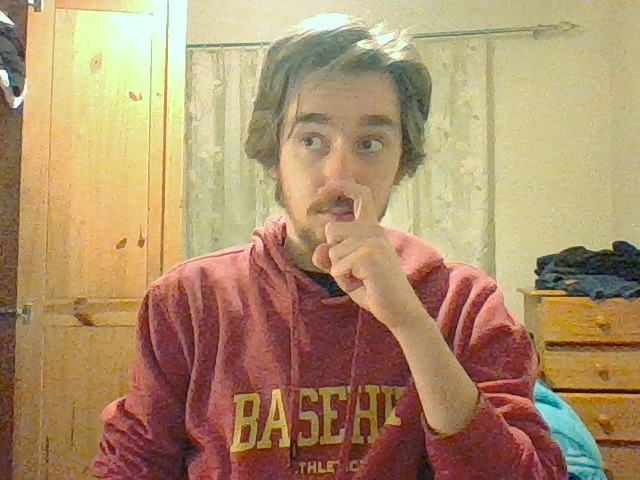sister: (313, 181, 395, 299)
